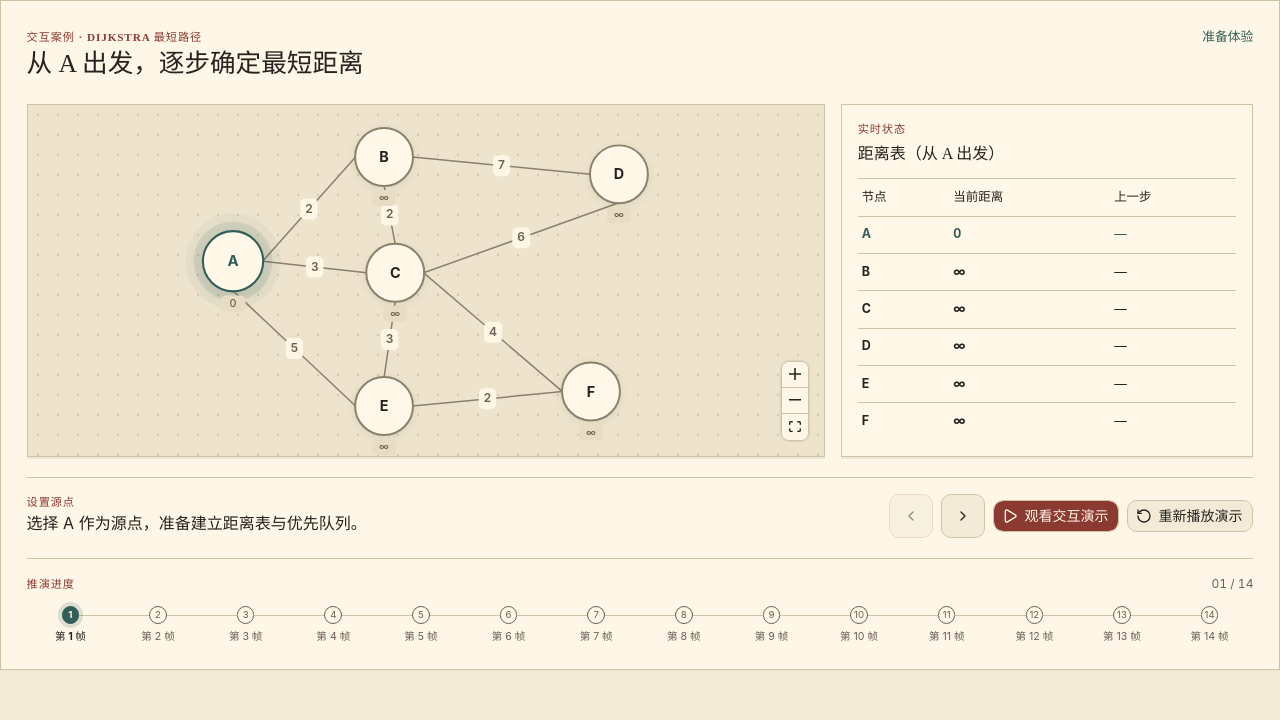
Test case: DijkstraDemo › starts from a complete poster and only autoplays after activation
Expected: the text "设置源点" is shown, [27,496,75,508]
Click the button "观看交互演示".
click(1056, 516)  # box [993,500,1119,532]
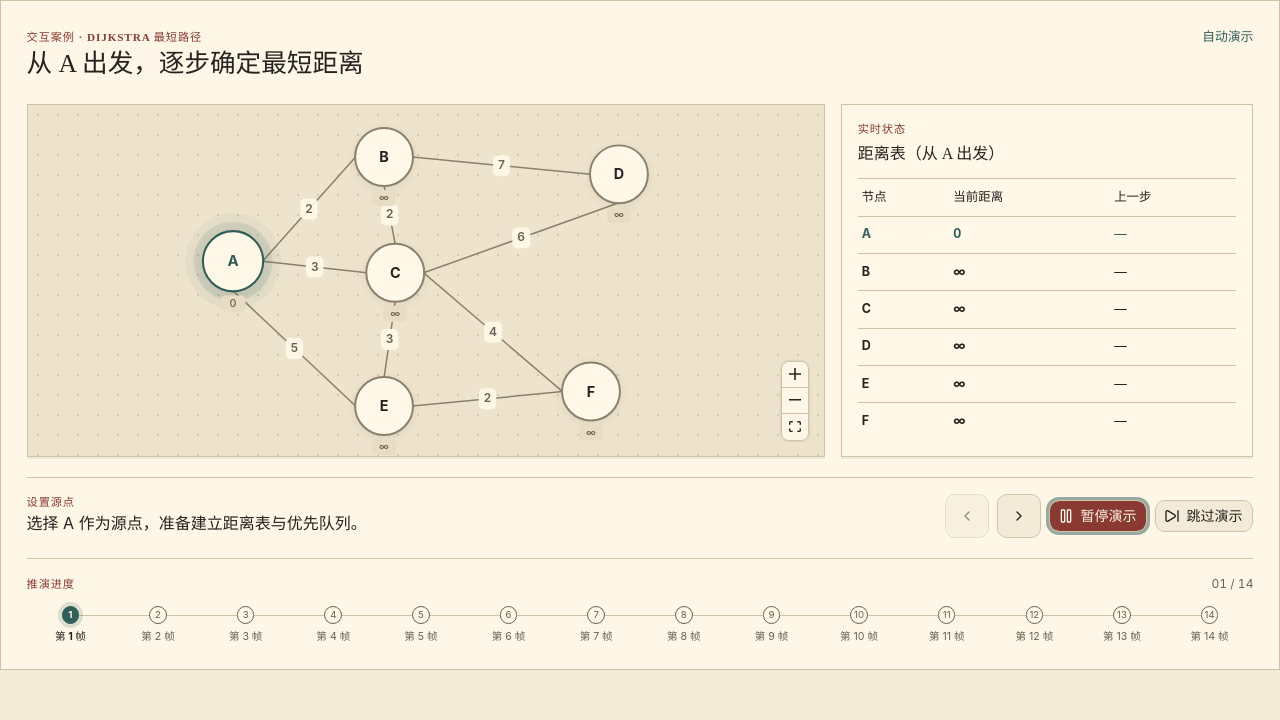
Now the button "暂停演示" is shown, box [1049,500,1147,532]
